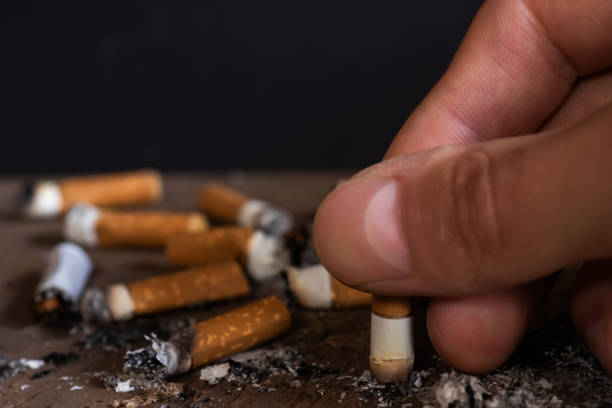cigarette: (142, 292, 291, 380), (80, 259, 251, 326), (164, 223, 289, 281), (19, 171, 166, 219), (59, 205, 211, 250), (195, 182, 295, 241), (367, 293, 421, 388), (31, 241, 94, 321), (281, 262, 372, 307)
